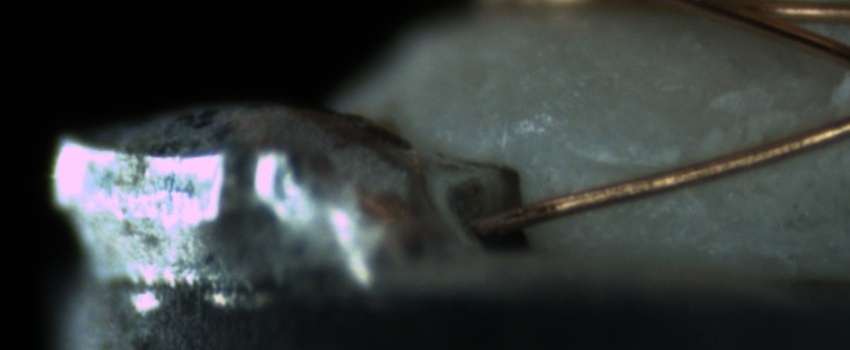DL: (562, 137, 693, 194)
